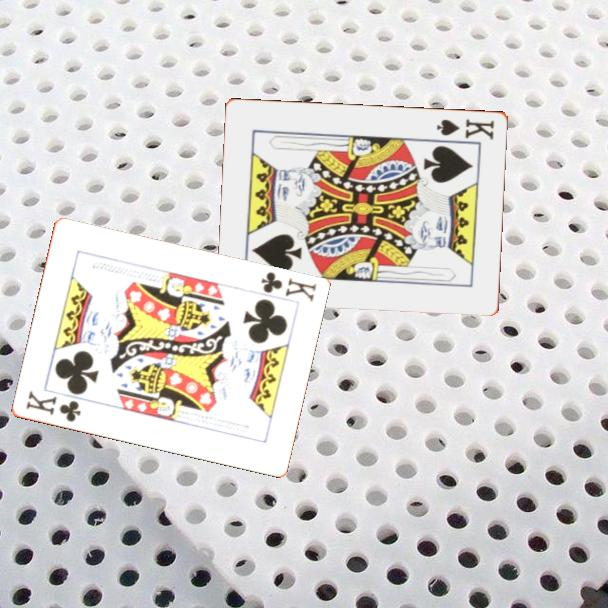c13: (22, 387, 83, 425), (257, 268, 319, 305)
s13: (434, 115, 497, 142)
